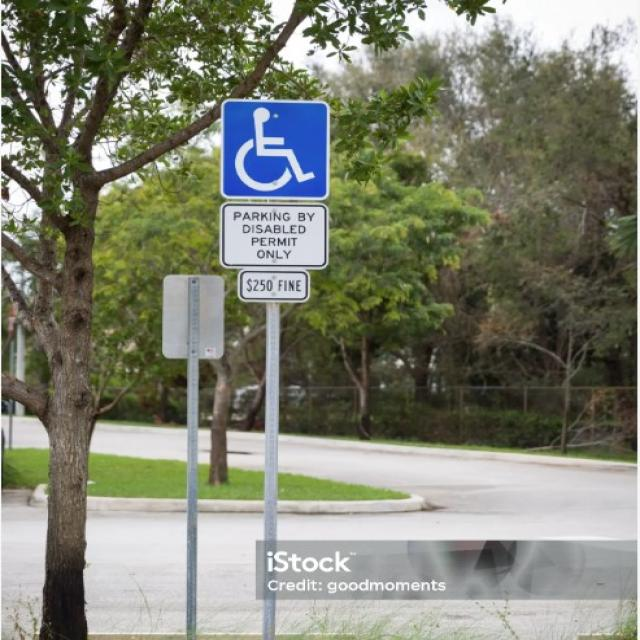symbol_of_access: (218, 97, 330, 203)
